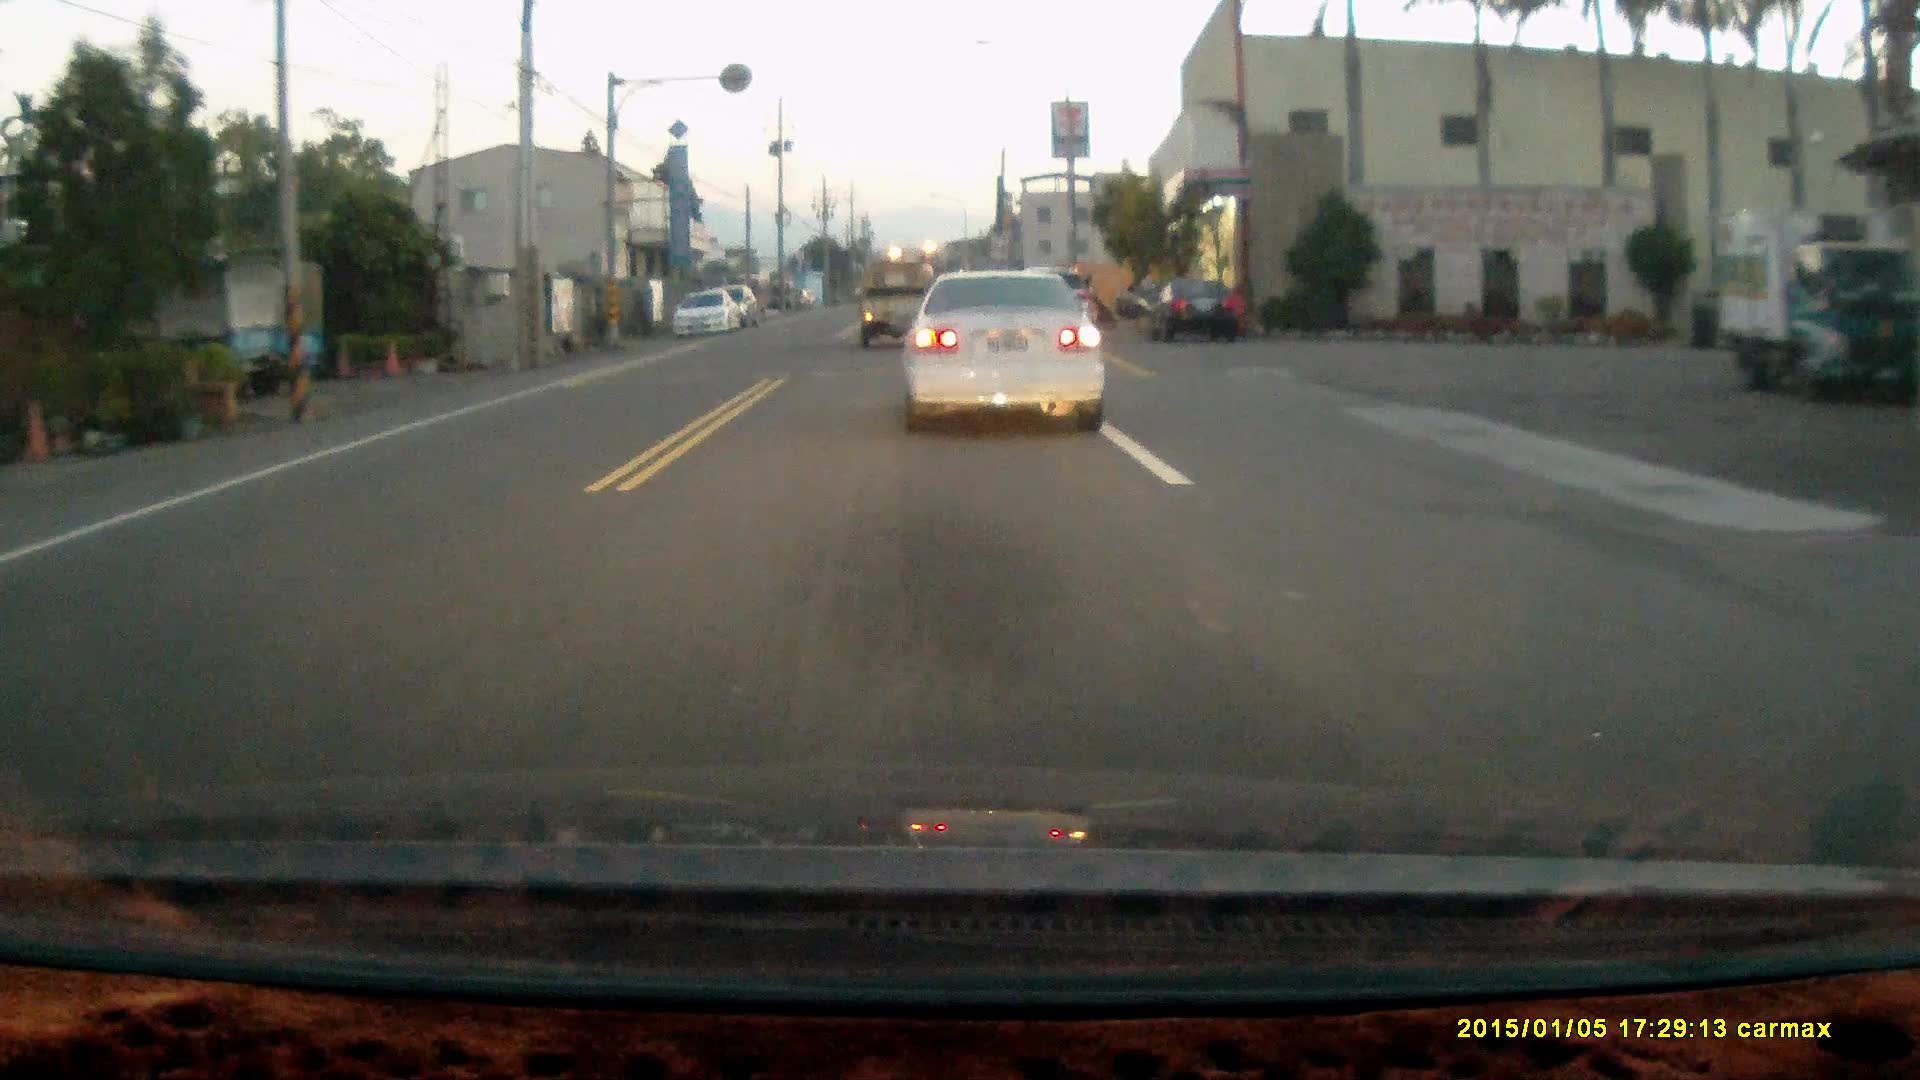vehicle: (1710, 204, 1887, 404), (905, 270, 1108, 443), (1139, 277, 1245, 343), (856, 262, 931, 348), (666, 286, 744, 342)
